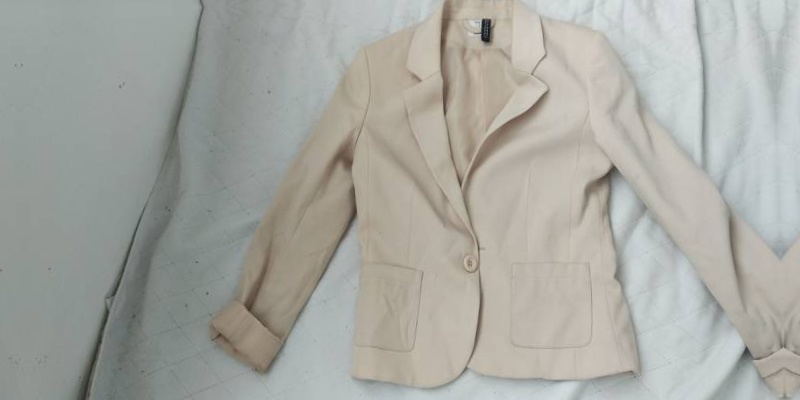Blazer: (199, 0, 784, 400), (774, 0, 800, 391), (186, 0, 771, 5), (787, 392, 800, 400)
